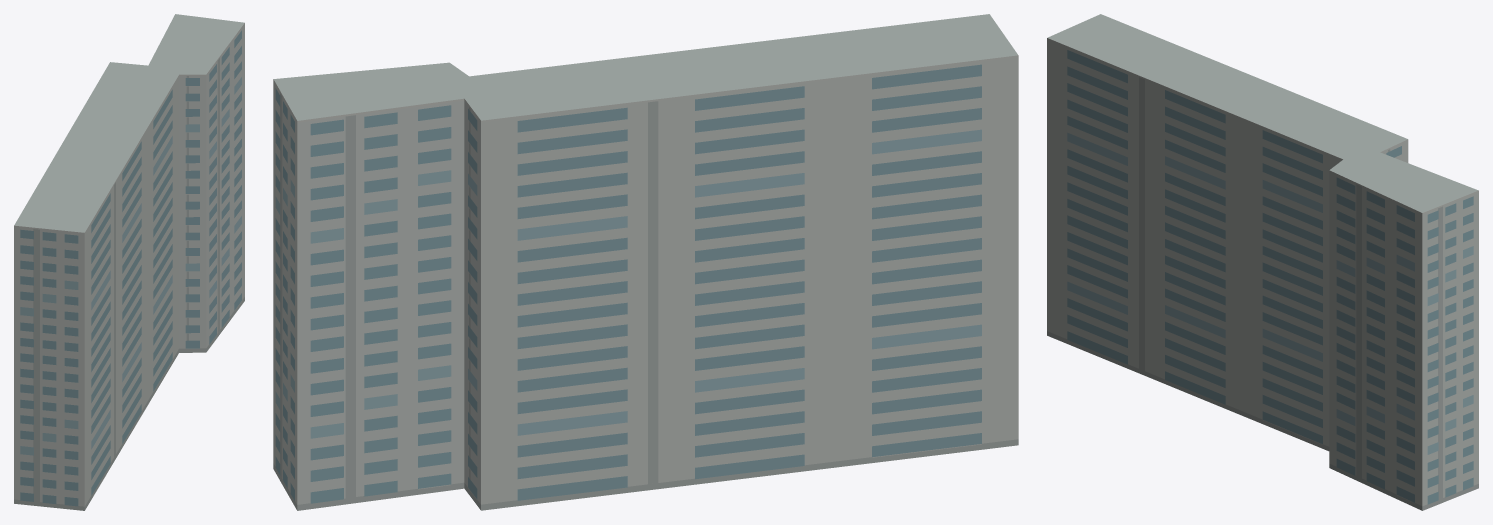
Rendered from residential-c366ed26-2221-42b6-9caa-ecc28adbd0a8.glb.
The picture shows the model from 3 angles, left to right: view 1: azimuth 30°, elevation 25°; view 2: azimuth 150°, elevation 25°; view 3: azimuth 270°, elevation 25°; orthographic projection. The views are drawn at different scales.
Parts seen in each view (by area): view 1: residential-c366ed26-2221-42b6-9caa-ecc28adbd0a8.tmp; view 2: residential-c366ed26-2221-42b6-9caa-ecc28adbd0a8.tmp; view 3: residential-c366ed26-2221-42b6-9caa-ecc28adbd0a8.tmp.
Part boxes in pixels (bbox=[...]): residential-c366ed26-2221-42b6-9caa-ecc28adbd0a8.tmp: bbox=[14, 14, 244, 510]; residential-c366ed26-2221-42b6-9caa-ecc28adbd0a8.tmp: bbox=[273, 14, 1018, 510]; residential-c366ed26-2221-42b6-9caa-ecc28adbd0a8.tmp: bbox=[1047, 14, 1478, 510].
Bounding box in the file's own units: 68.84 × 48 × 63.07.
